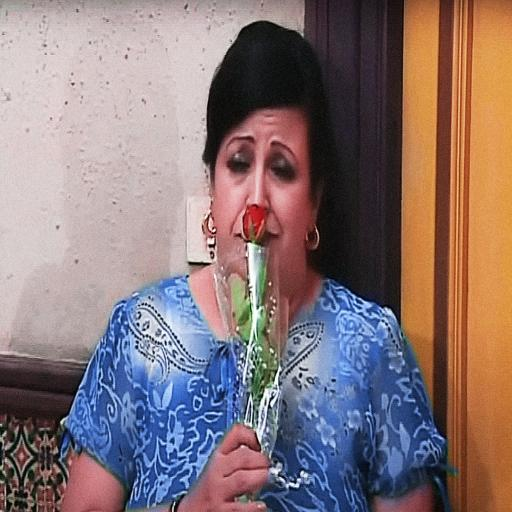jannet: (212, 108, 316, 275)
